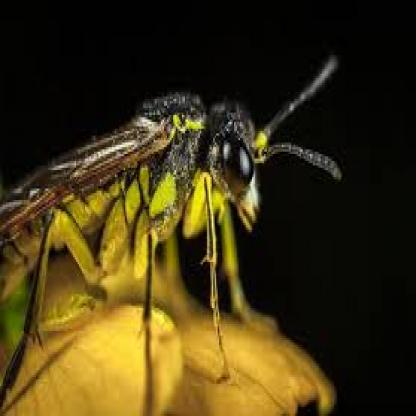sawfly: (2, 56, 341, 393)
